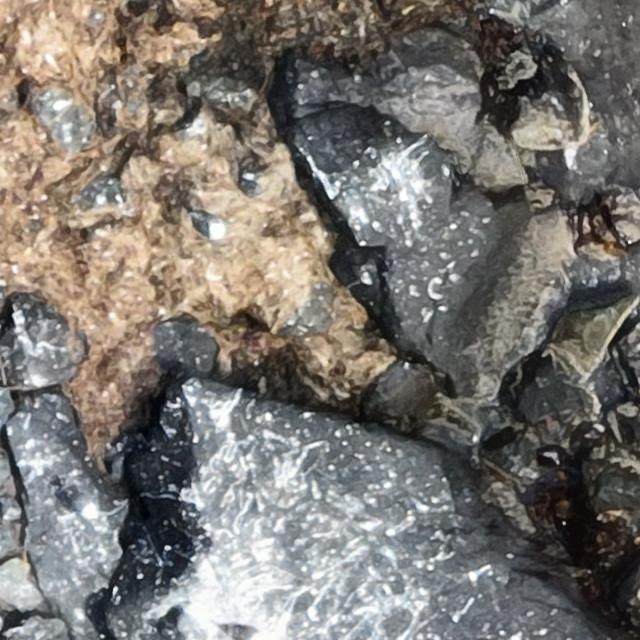umineko: (69, 492, 100, 518), (195, 214, 225, 240), (225, 625, 263, 640)
